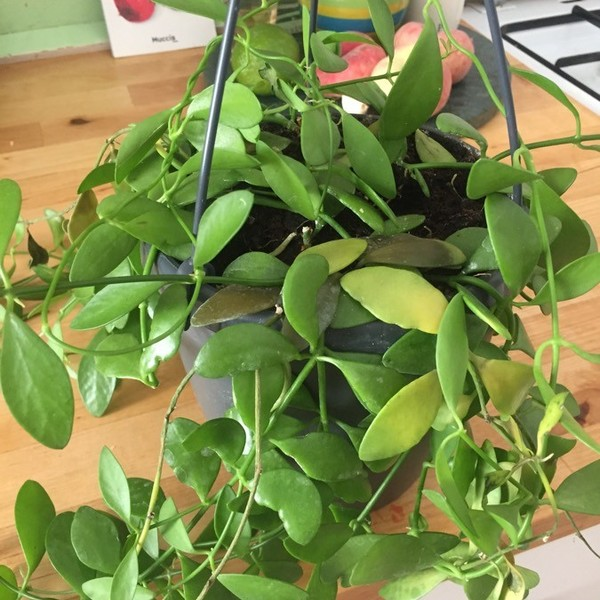obstacle: (61, 56, 557, 591)
